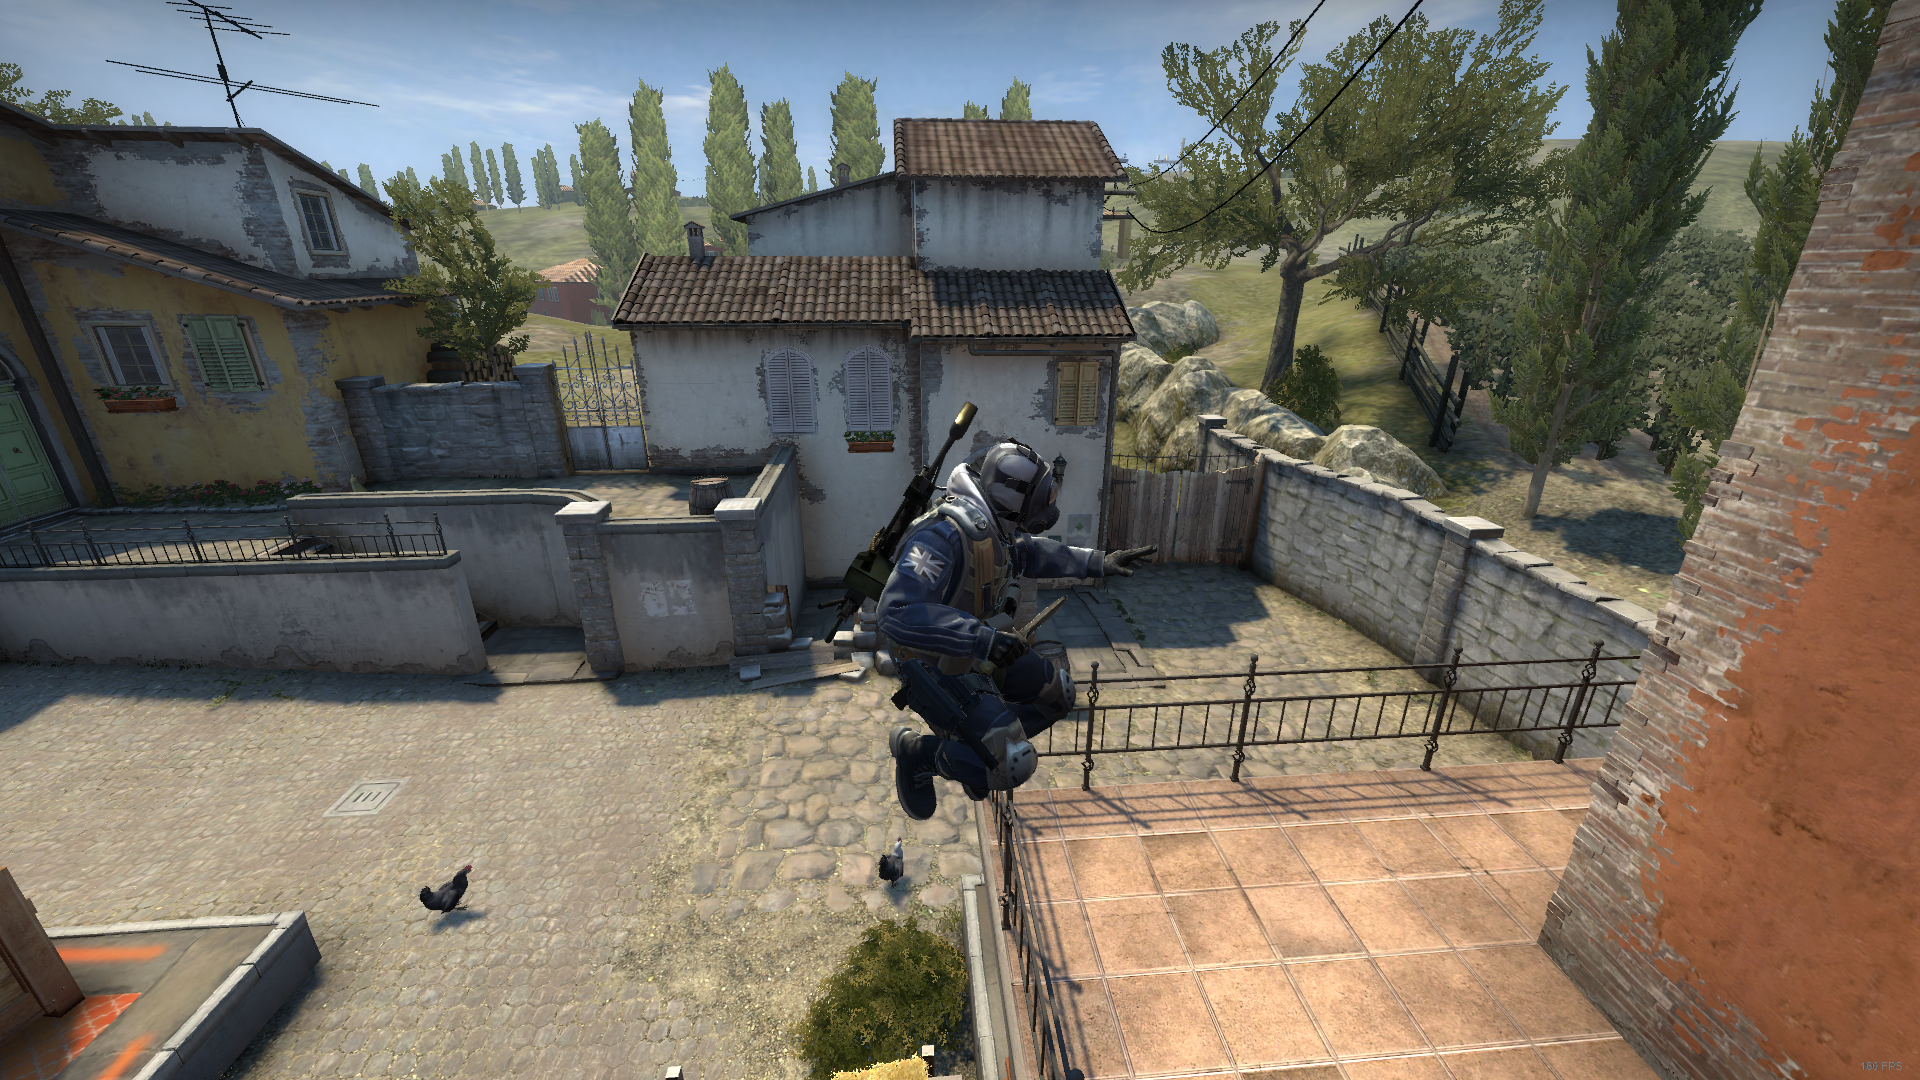ct: (861, 440, 1160, 828)
